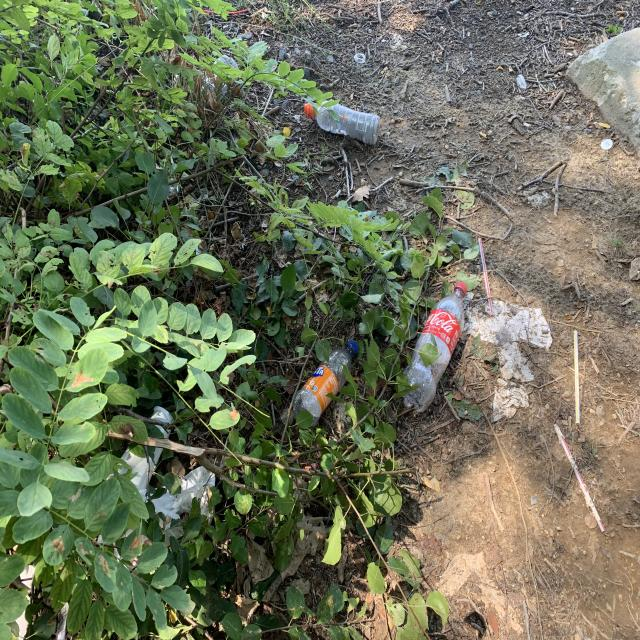Plastic: (392, 278, 470, 419), (286, 329, 362, 428), (550, 426, 610, 544), (303, 94, 384, 149), (556, 327, 588, 432), (465, 226, 494, 305)
